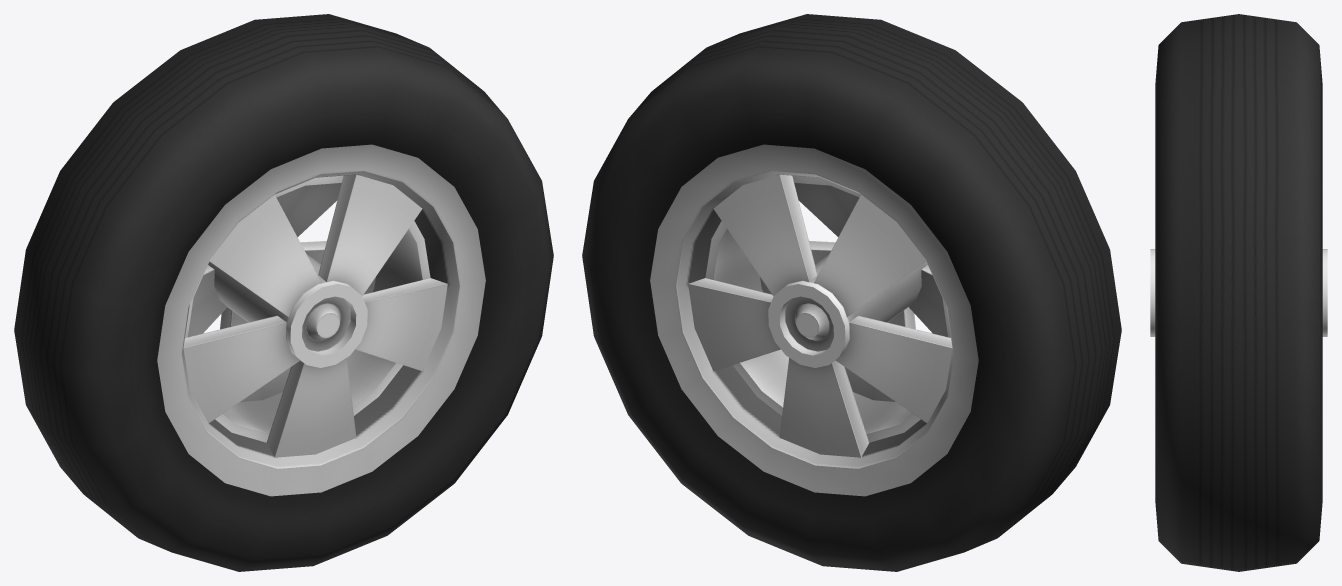
Rendered from wheel.FBX.
3 renders of one model, left to right at view 1: azimuth 30°, elevation 25°; view 2: azimuth 150°, elevation 25°; view 3: azimuth 270°, elevation 25°, orthographic.
Visible parts, largest first — view 1: wheel; view 2: wheel; view 3: wheel.
Part boxes in pixels (left/top/right/bottom): wheel: left=14, top=14, right=553, bottom=571; wheel: left=582, top=14, right=1121, bottom=571; wheel: left=1150, top=14, right=1327, bottom=571.
Size of the model in its own units: 42.89 by 42.89 by 13.53.
